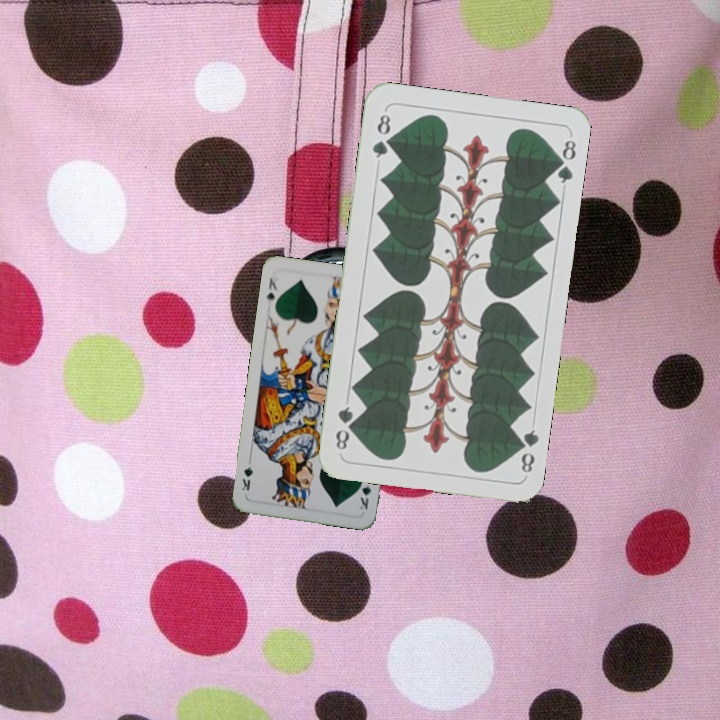G8: (512, 425, 541, 476), (368, 107, 394, 160)
GK: (355, 473, 373, 512), (263, 274, 280, 306)
